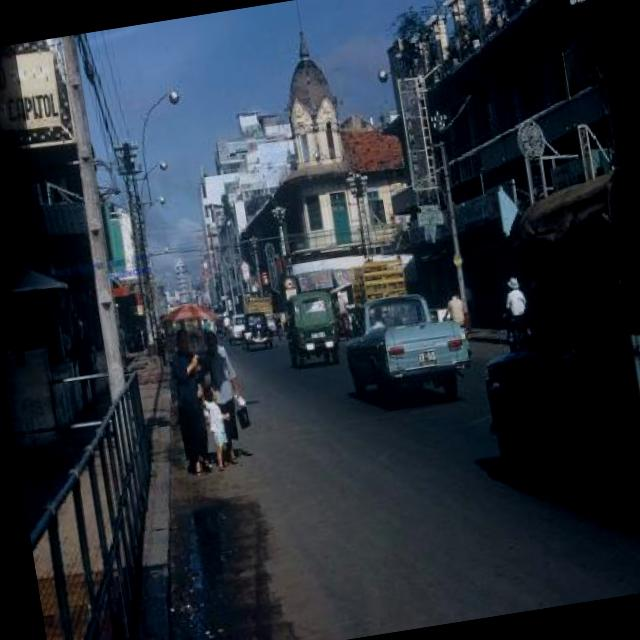Person: (162, 330, 219, 481), (196, 328, 248, 460), (199, 380, 240, 471), (502, 276, 532, 348)
